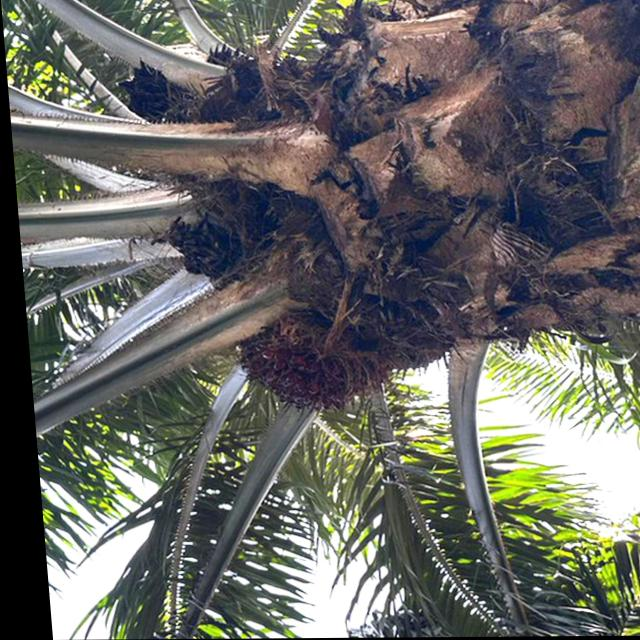ripe: (213, 305, 384, 423)
